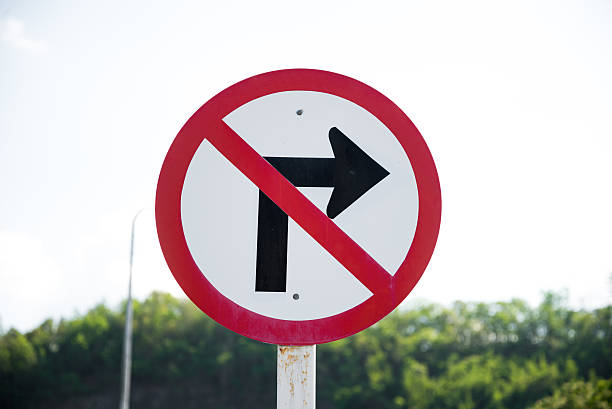saga_girilmez: (150, 65, 442, 353)
